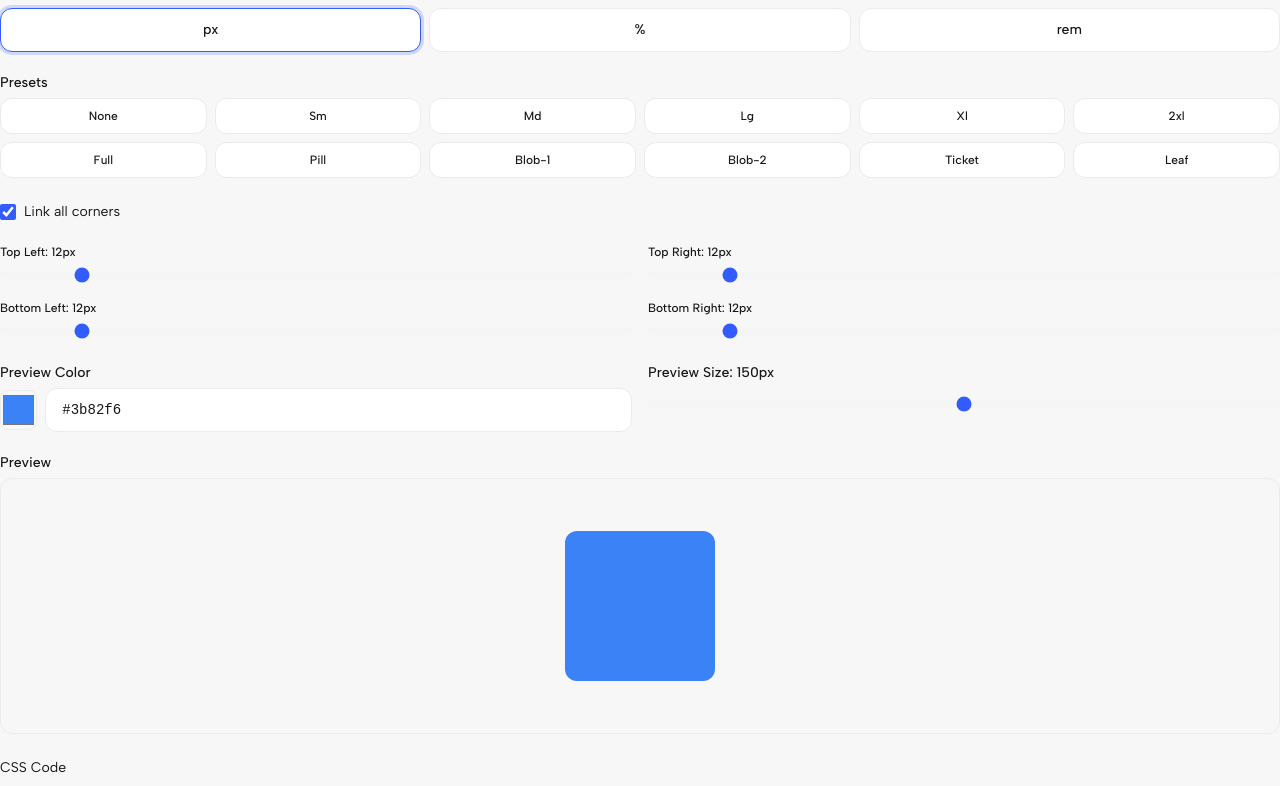
Test: BorderRadiusGeneratorTool › applies none preset
Click the button "none" at (103, 116), box [0, 98, 207, 134]
(page scrolled)
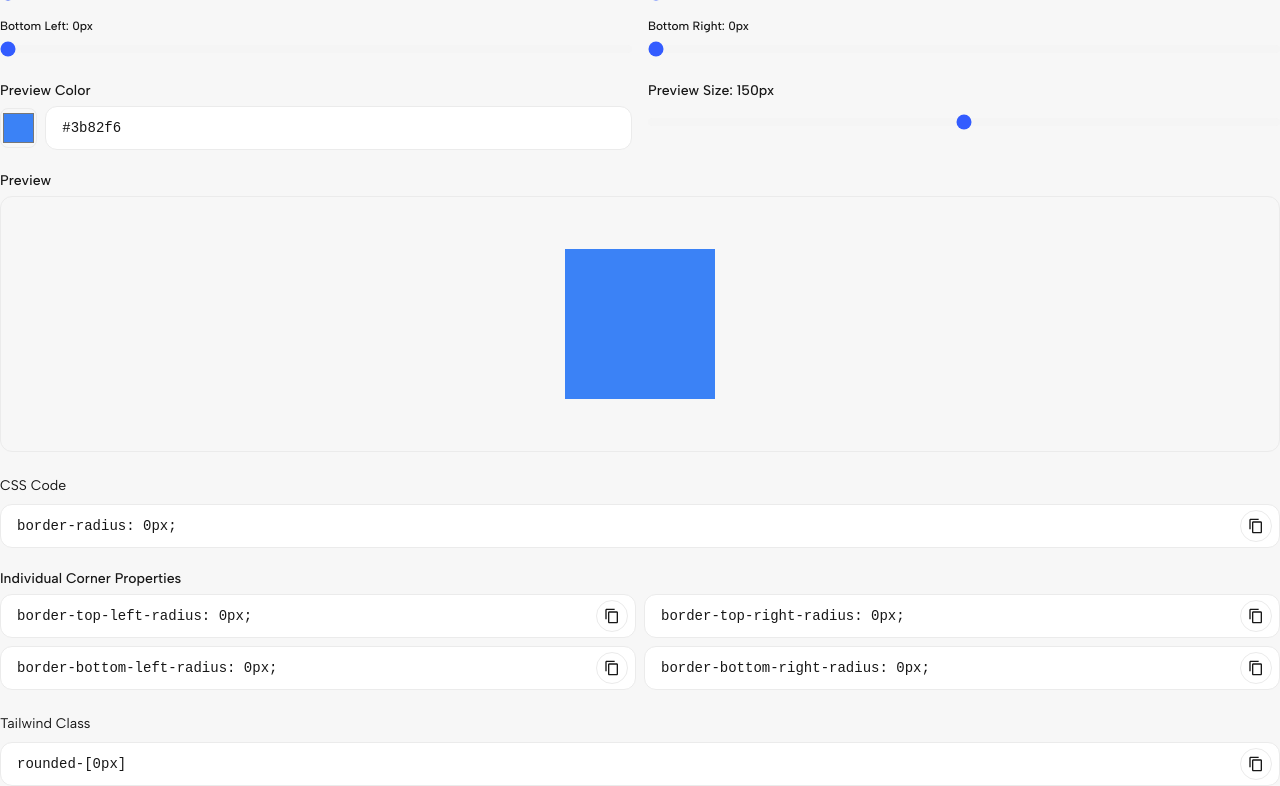
expect the field below "CSS Code" holds "border-radius: 0px;": met, box [0, 504, 1279, 548]
